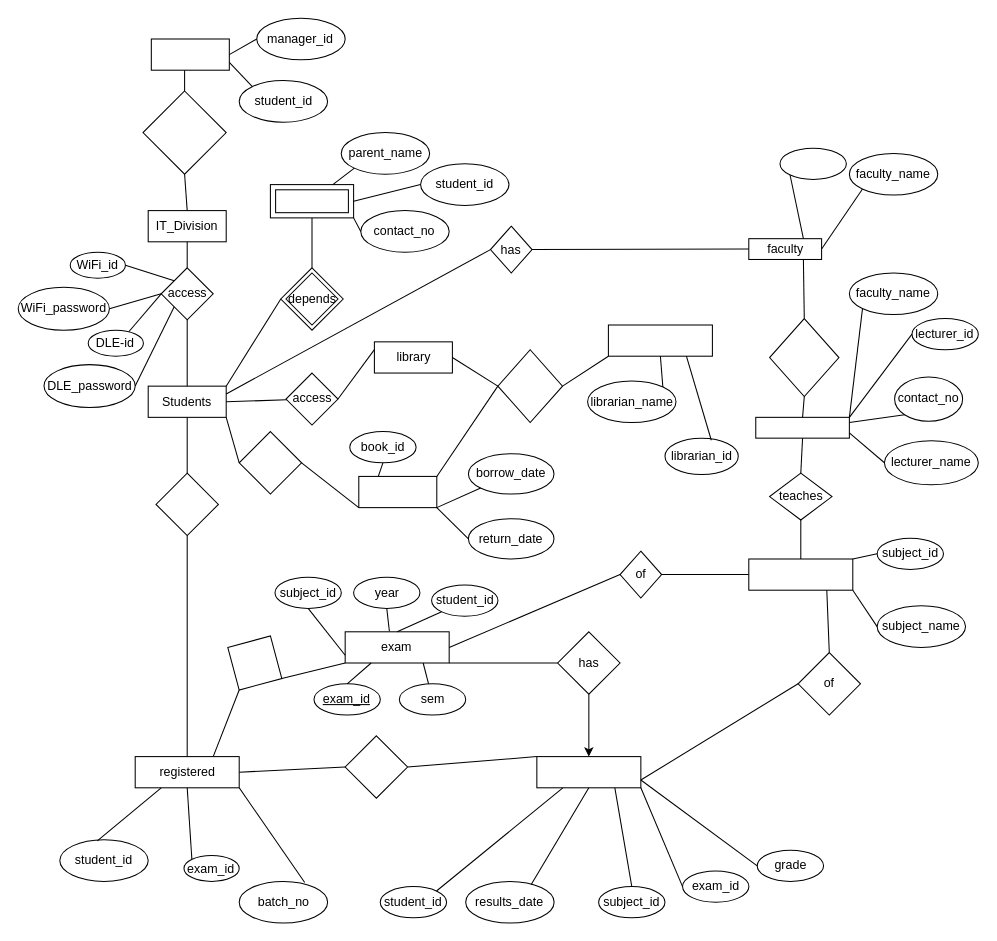
This 997x941 diagram has some shape labels left out. Each missing label, with the centre of its shape:
"belongs to" belongs at (804,357).
"book" belongs at (397,491).
"borrows" belongs at (270,462).
"faculty_no" belongs at (812,163).
"gets" belongs at (376,766).
"It_Manager" belongs at (189,54).
"lecturer" belongs at (802,427).
"library_manager" belongs at (659,340).
"managed by" belongs at (184,132).
"manages" belongs at (530,386).
"parents" belongs at (311,201).
"registers" belongs at (186,504).
"results" belongs at (588,772).
"sits for" belongs at (254,662).
"subject" belongs at (800,574).
